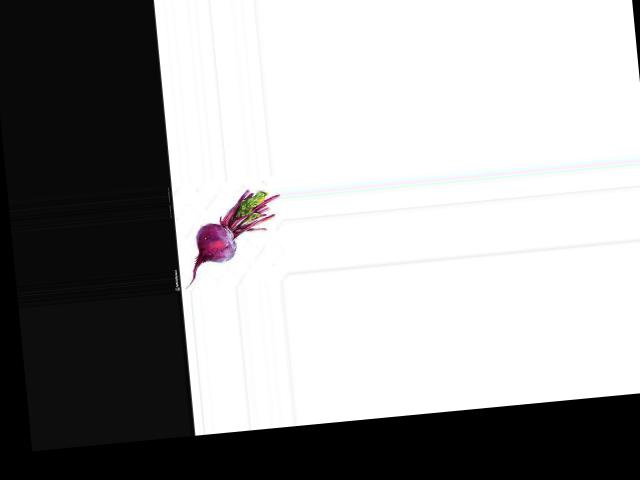beet: (177, 186, 288, 288)
